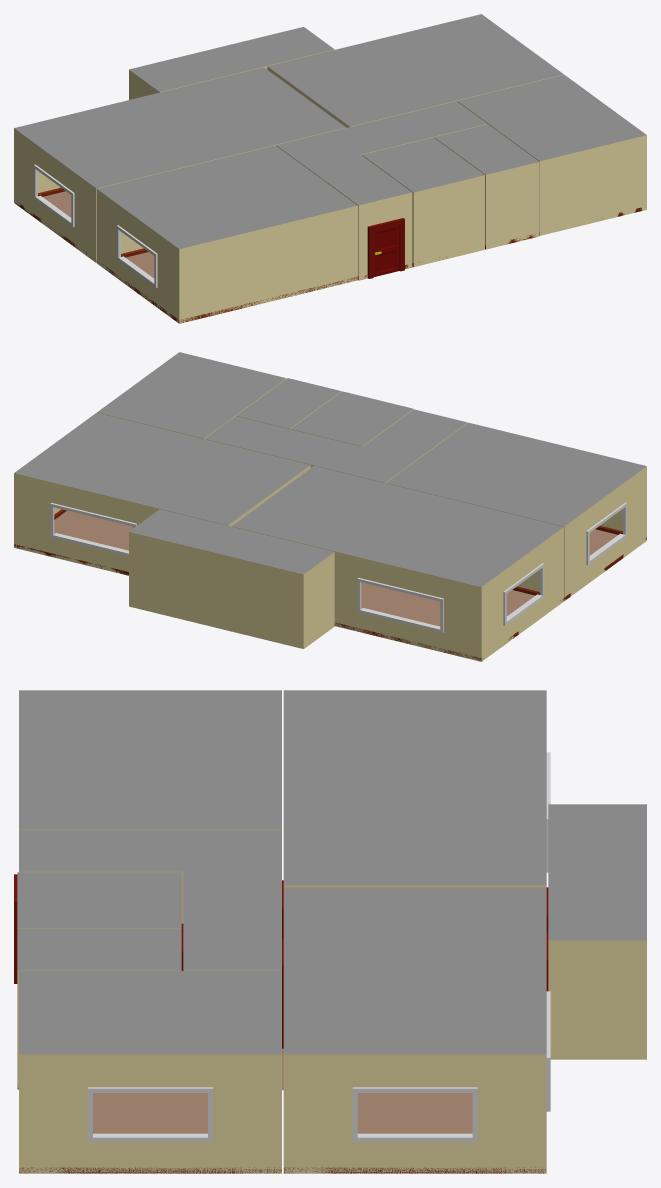
File: 3Rooms_pochti.fbx
The picture shows the model from 3 angles, top to bottom: view 1: azimuth 30°, elevation 25°; view 2: azimuth 150°, elevation 25°; view 3: azimuth 270°, elevation 25°; orthographic projection. The views are drawn at different scales.
Parts seen in each view (by area): view 1: Roof2, Walls, Roof3, Roof, Roof4, Roof7, Walls4, Walls6, Roof8, Walls2, Walls5, Roof6 (+9 smaller); view 2: Roof2, Roof3, Walls8, Roof, Walls2, Roof4, Roof7, Walls3, Roof8, Walls, Roof6, Roof5 (+7 smaller); view 3: Roof2, Roof3, Roof, Walls3, Walls4, Roof4, Roof7, Roof8, Walls8, Roof6, Roof5, Floor3 (+6 smaller).
Part boxes in pixels (left/top/right/bottom): Roof2: left=14, top=67, right=345, bottom=188; Walls: left=97, top=189, right=357, bottom=323; Roof3: left=268, top=14, right=563, bottom=126; Roof: left=97, top=145, right=357, bottom=248; Roof4: left=458, top=75, right=646, bottom=160; Roof7: left=276, top=101, right=486, bottom=205; Walls4: left=457, top=101, right=646, bottom=235; Walls6: left=362, top=155, right=484, bottom=266; Roof8: left=129, top=27, right=334, bottom=91; Walls2: left=14, top=127, right=345, bottom=262; Walls5: left=434, top=137, right=539, bottom=249; Roof6: left=362, top=137, right=484, bottom=192; Roof2: left=232, top=466, right=563, bottom=586; Roof3: left=14, top=413, right=309, bottom=525; Walls8: left=129, top=532, right=334, bottom=648; Roof: left=386, top=422, right=646, bottom=526; Walls2: left=232, top=526, right=563, bottom=661; Roof4: left=97, top=352, right=285, bottom=438; Roof7: left=205, top=409, right=466, bottom=482; Walls3: left=14, top=465, right=310, bottom=575; Roof8: left=129, top=509, right=334, bottom=574; Walls: left=386, top=466, right=646, bottom=600; Roof6: left=291, top=391, right=413, bottom=446; Roof5: left=236, top=378, right=340, bottom=428; Roof2: left=283, top=690, right=546, bottom=884; Roof3: left=283, top=887, right=546, bottom=1054; Roof: left=19, top=690, right=281, bottom=829; Walls3: left=283, top=1054, right=546, bottom=1173; Walls4: left=19, top=1054, right=281, bottom=1173; Roof4: left=19, top=971, right=281, bottom=1054; Roof7: left=19, top=830, right=281, bottom=970; Roof8: left=548, top=804, right=646, bottom=940; Walls8: left=548, top=940, right=646, bottom=1059; Roof6: left=17, top=872, right=181, bottom=927; Roof5: left=17, top=928, right=181, bottom=970; Floor3: left=357, top=1093, right=472, bottom=1133.
Bounding box in the file's own units: 5280 × 800 × 3850.
